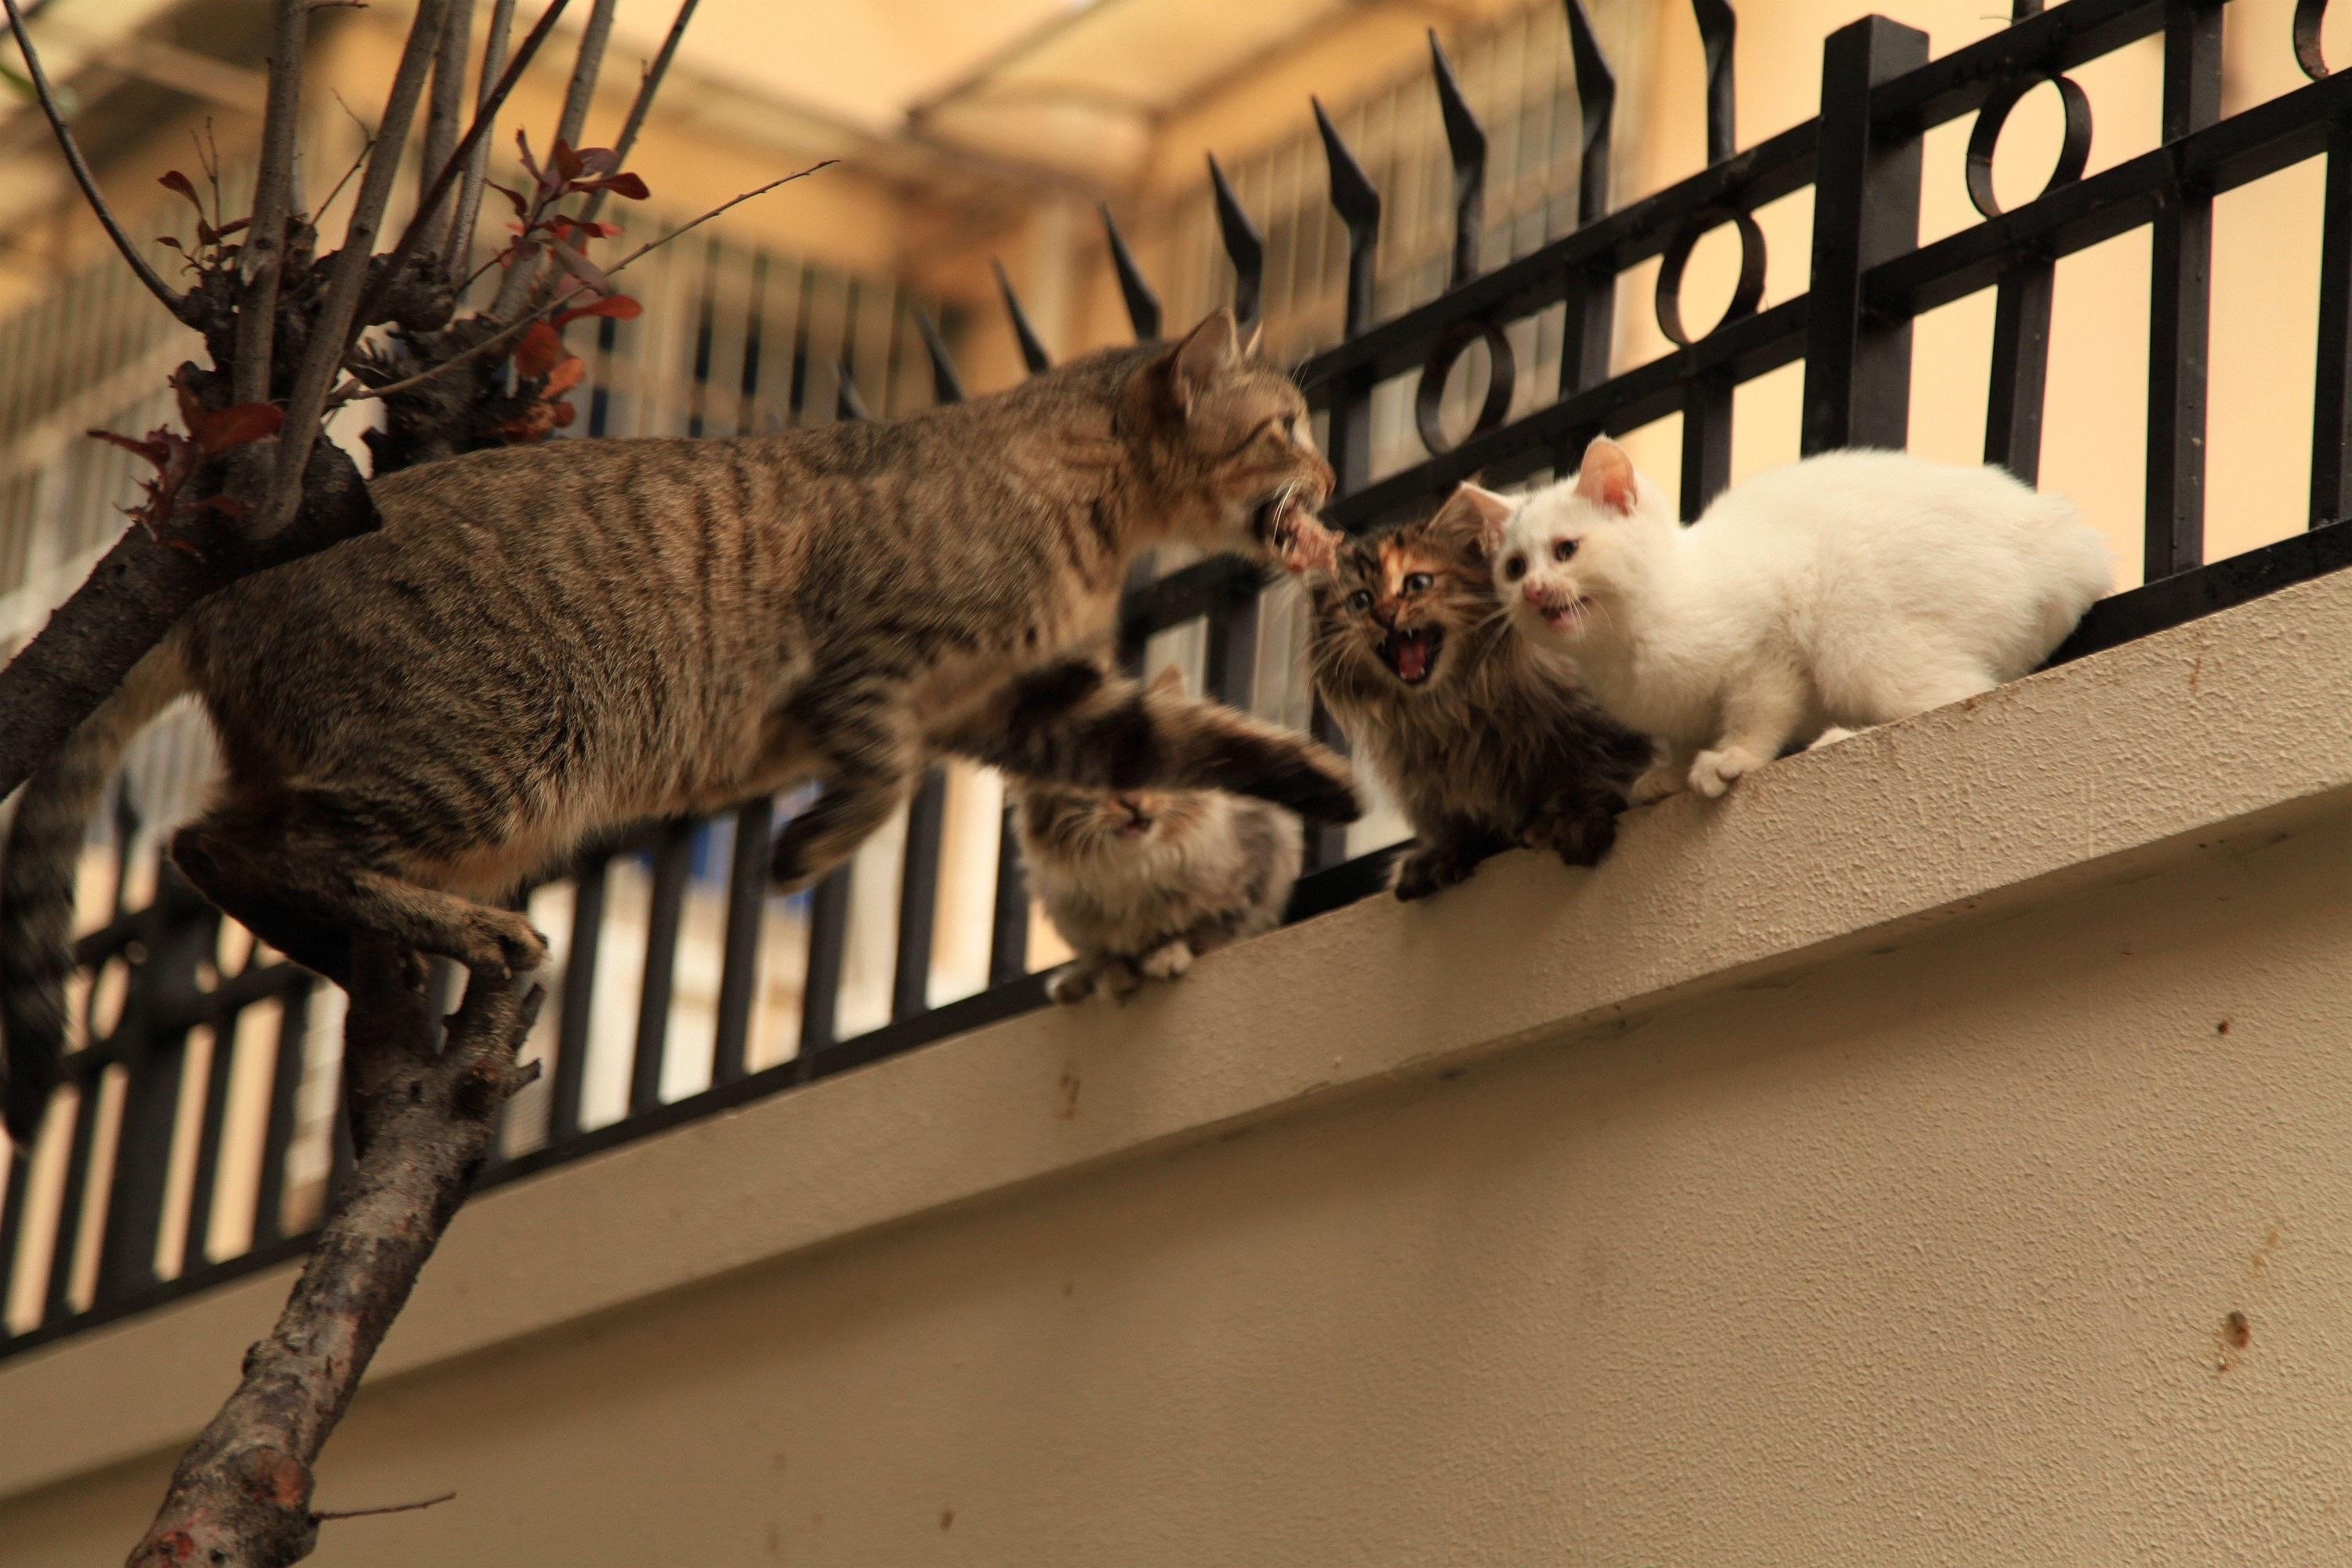cat: (0, 308, 1342, 1159), (1461, 434, 2112, 800), (1292, 476, 1656, 903), (1001, 663, 1300, 1006)
